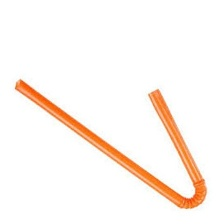drinking_straw: (9, 73, 214, 214)
